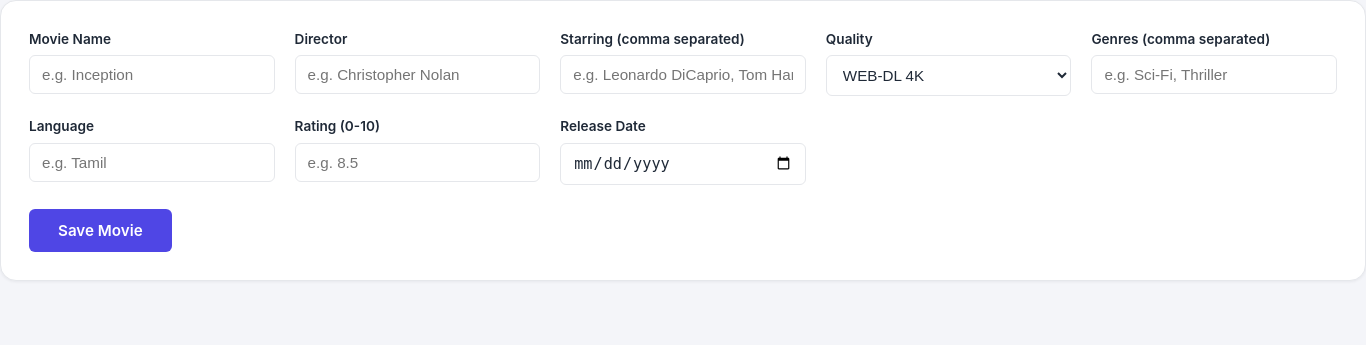
Test: MovieForm › shows an error when rating is out of range
In the number field labelled "Rating (0-10)": [417, 162] box top-left (295, 143), bottom-right (540, 182), type "15"
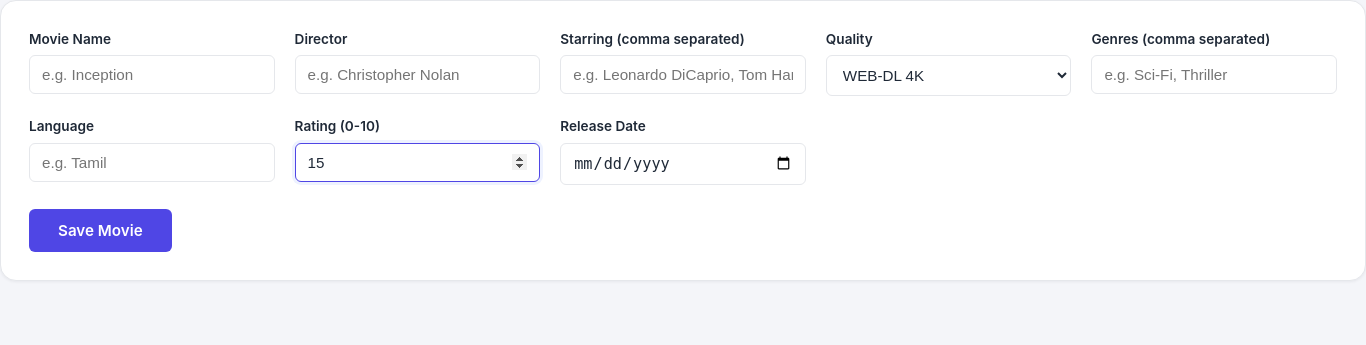
Click the button "Save Movie": [100, 230] box top-left (29, 209), bottom-right (172, 252)
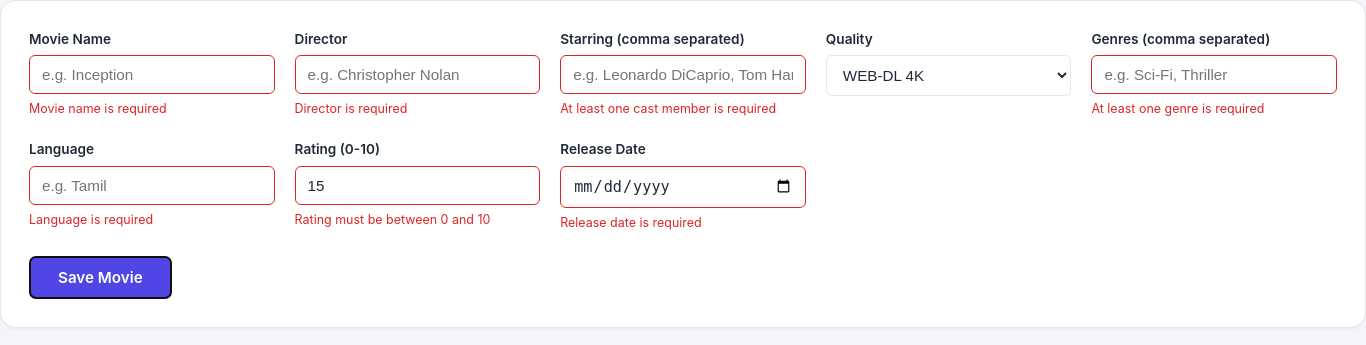
Now the text "Rating must be between 0 and 10" is shown, box top-left (295, 212), bottom-right (490, 226)
